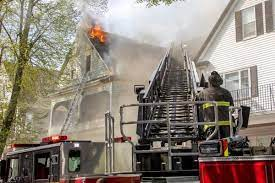smoke: (105, 2, 219, 62)
